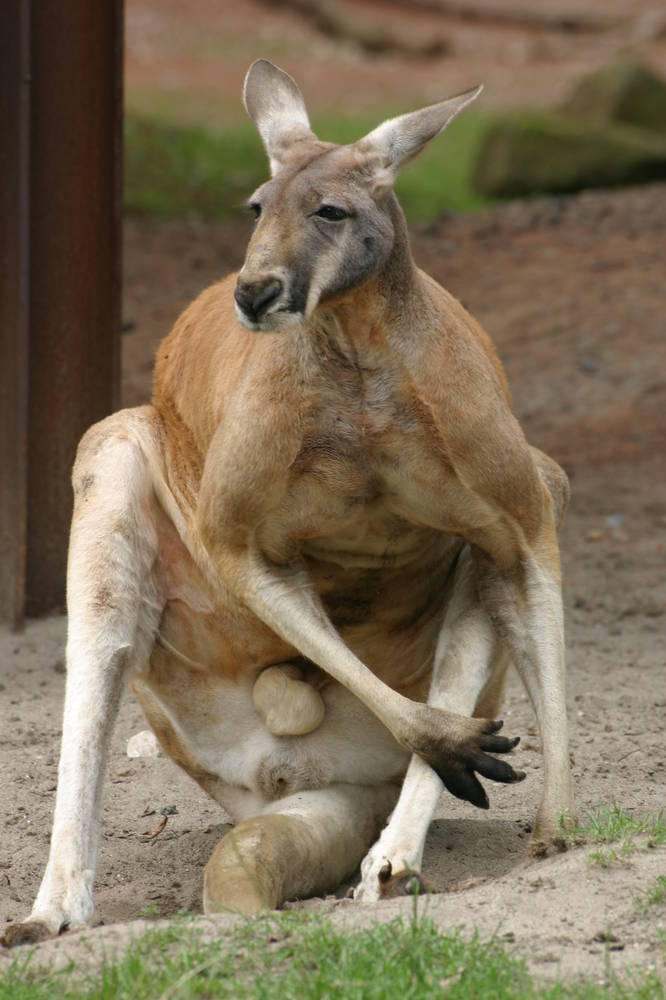kangaroo: (5, 51, 579, 953)
